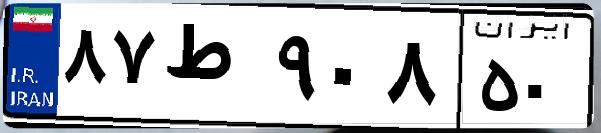0: (330, 28, 385, 110), (525, 38, 570, 115)
5: (475, 38, 525, 113)
7: (110, 28, 158, 98)
8: (385, 28, 445, 110), (57, 26, 110, 100)
9: (270, 28, 330, 110)
ط: (158, 20, 270, 120)
